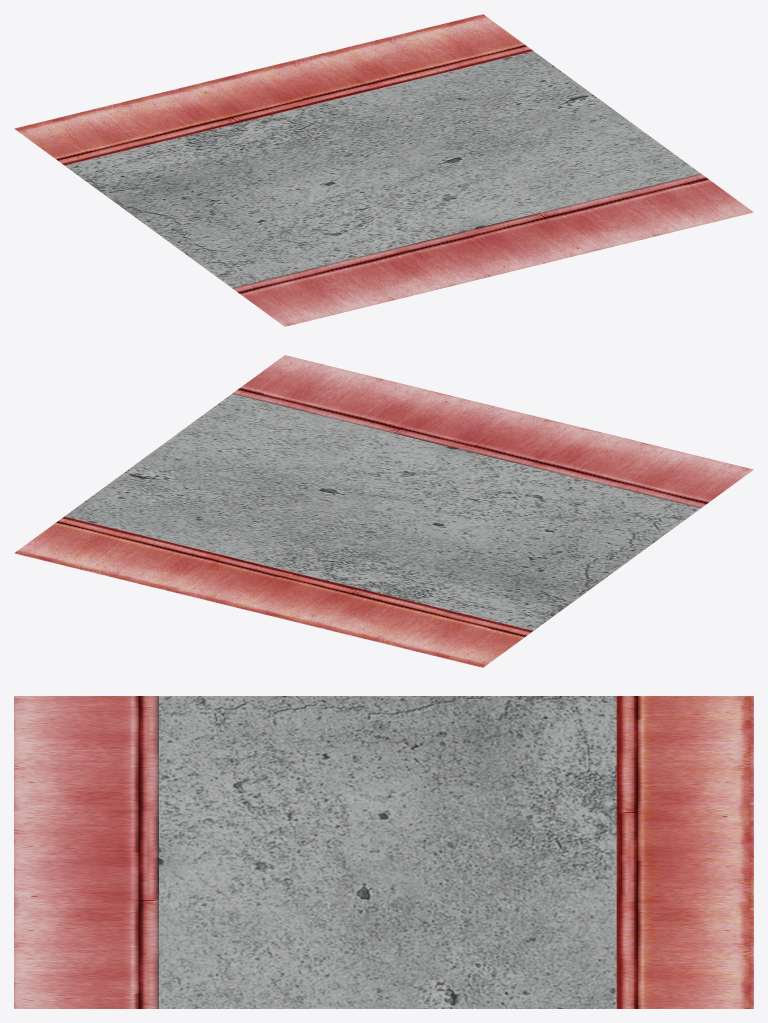
Rendered from CarlosMelendez_Floor.fbx.
3 views of the same model, one above another, from view 1: azimuth 30°, elevation 25°; view 2: azimuth 150°, elevation 25°; view 3: azimuth 270°, elevation 25° (orthographic). The views are drawn at different scales.
Parts seen in each view (by area): view 1: pCube2; view 2: pCube2; view 3: pCube2.
Boxes of the visible parts, left/top/right/bottom form: pCube2: left=14, top=14, right=753, bottom=326; pCube2: left=14, top=355, right=753, bottom=667; pCube2: left=14, top=696, right=753, bottom=1008.
Bounding box in the file's own units: 2.97 × 0 × 2.97.
